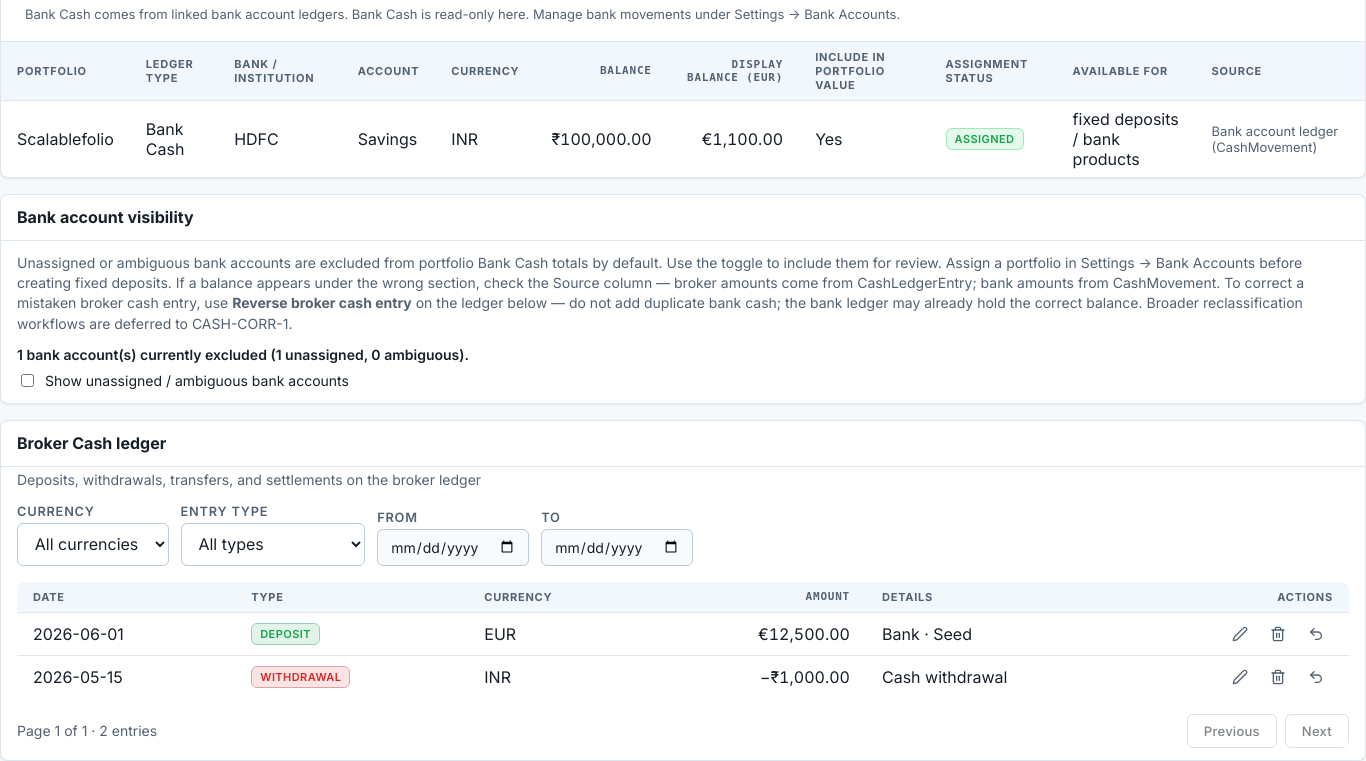
Test: Cash page › edit modal shows future impact when update is rejected
(page scrolled)
Click the button named "Edit Deposit" at (1240, 634), box x1=1223 y1=621 x2=1257 y2=647
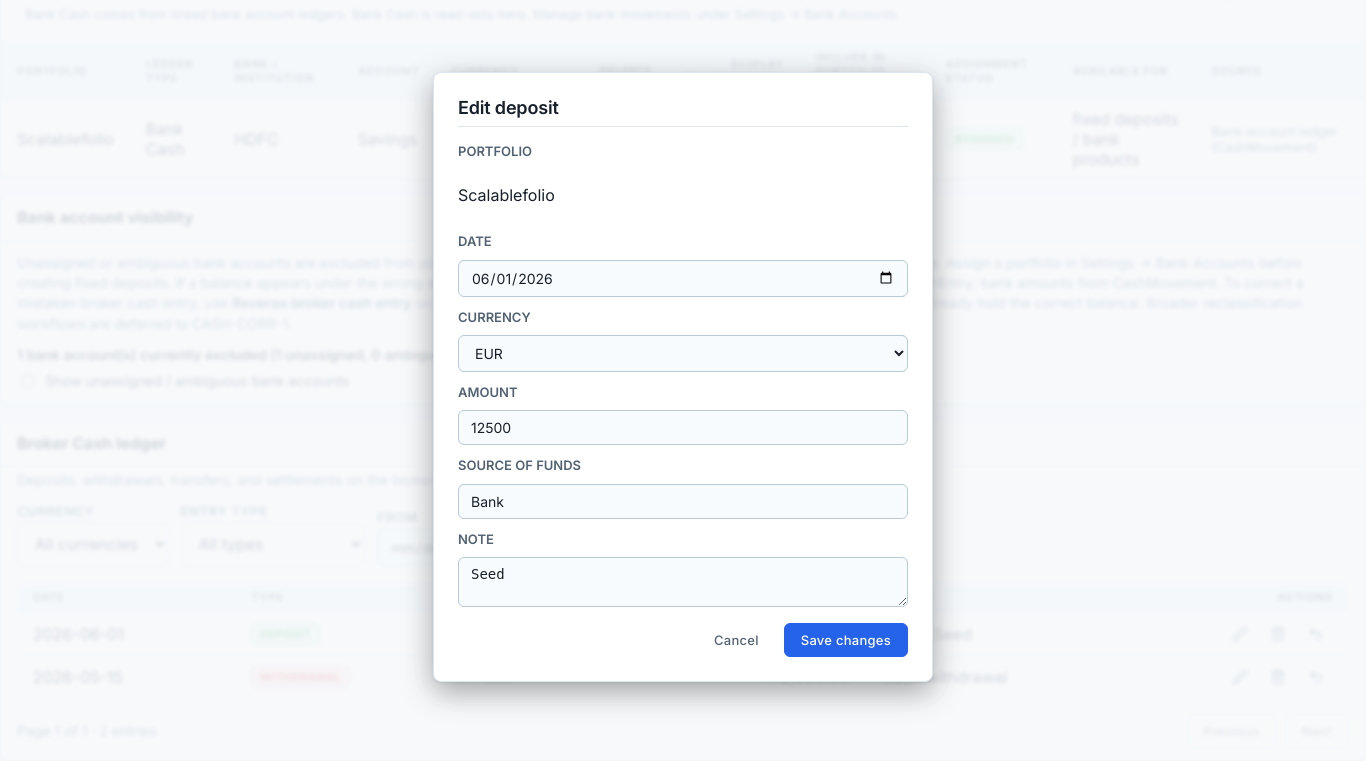
Replace the text in the number field labelled "Amount" with "1" at (683, 428), box x1=458 y1=410 x2=908 y2=445
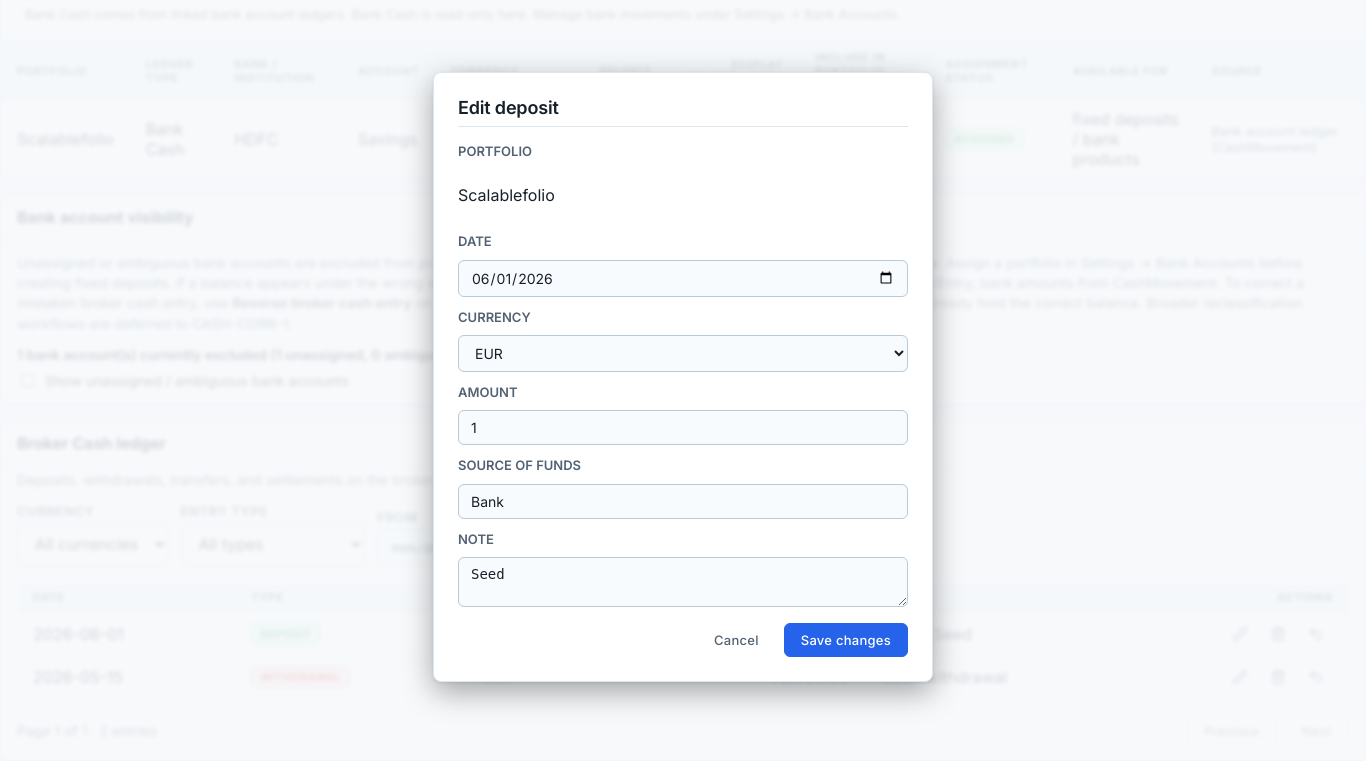
Click the button "Save changes" at (846, 640), box x1=784 y1=623 x2=908 y2=657
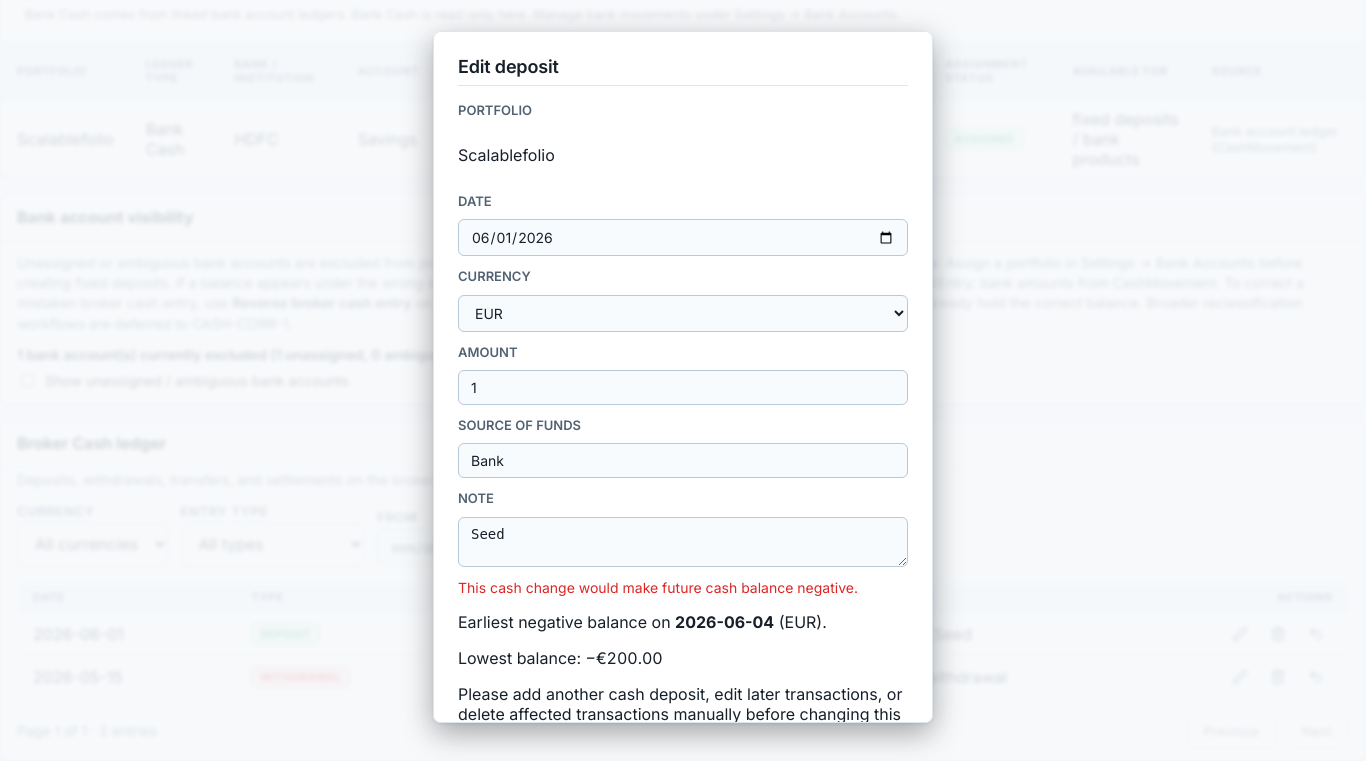
Now the text "This cash change would make future cash balance negative." is shown, box x1=458 y1=579 x2=908 y2=596
